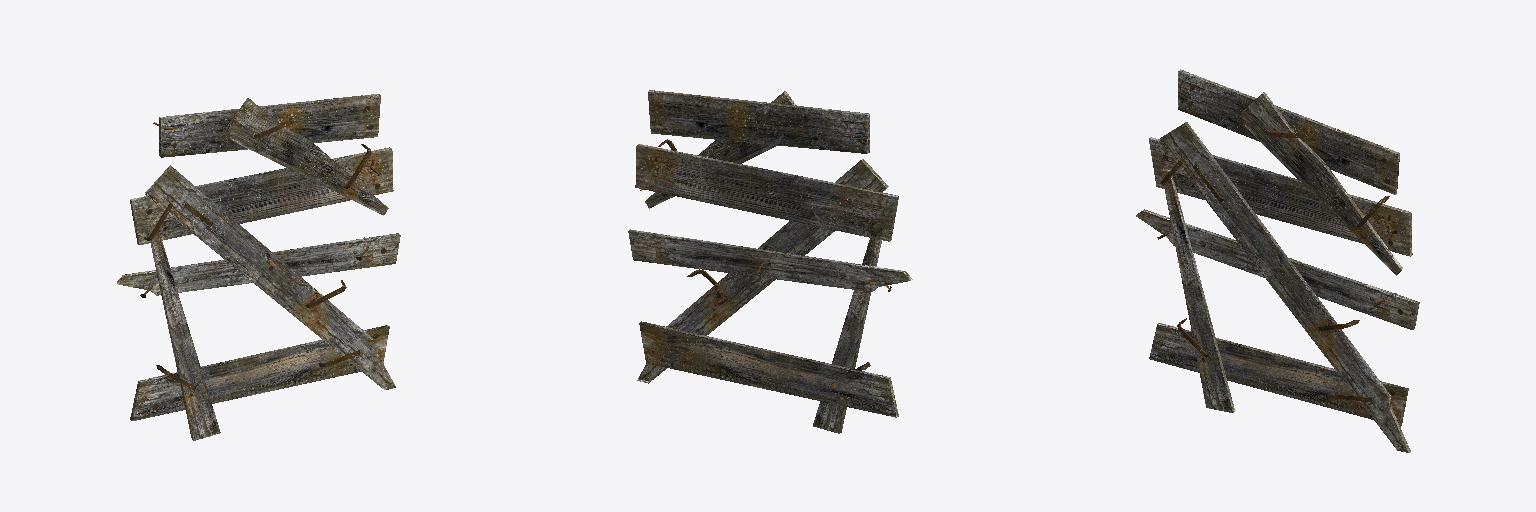
3 views of the same model, side by side, from view 1: azimuth 30°, elevation 25°; view 2: azimuth 150°, elevation 25°; view 3: azimuth 330°, elevation 25° (orthographic).
Visible parts, largest first — view 1: LODGroup_1_MainMesh_1_Submesh_1; view 2: LODGroup_1_MainMesh_1_Submesh_1; view 3: LODGroup_1_MainMesh_1_Submesh_1.
Part boxes in pixels (left/top/right/bottom): LODGroup_1_MainMesh_1_Submesh_1: left=117, top=94, right=400, bottom=440; LODGroup_1_MainMesh_1_Submesh_1: left=628, top=90, right=912, bottom=433; LODGroup_1_MainMesh_1_Submesh_1: left=1136, top=69, right=1419, bottom=452.
Bounding box in the file's own units: 151 × 168 × 22.15.
Materials: 1 (1 with a texture image).